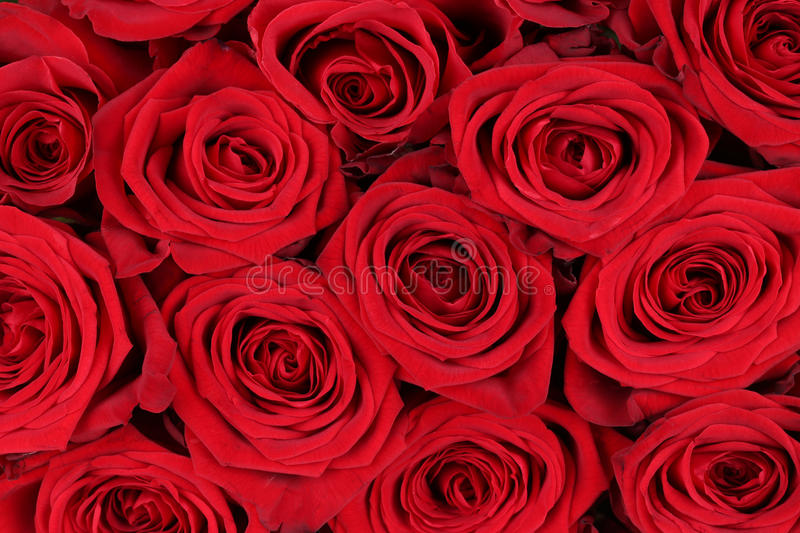RedRose: (85, 41, 357, 282), (560, 162, 794, 416), (144, 256, 404, 466), (448, 36, 690, 257), (324, 175, 551, 410), (368, 389, 617, 533), (236, 2, 467, 154), (0, 200, 126, 465), (619, 2, 799, 167), (16, 421, 247, 533), (618, 401, 800, 533), (0, 52, 118, 208)
